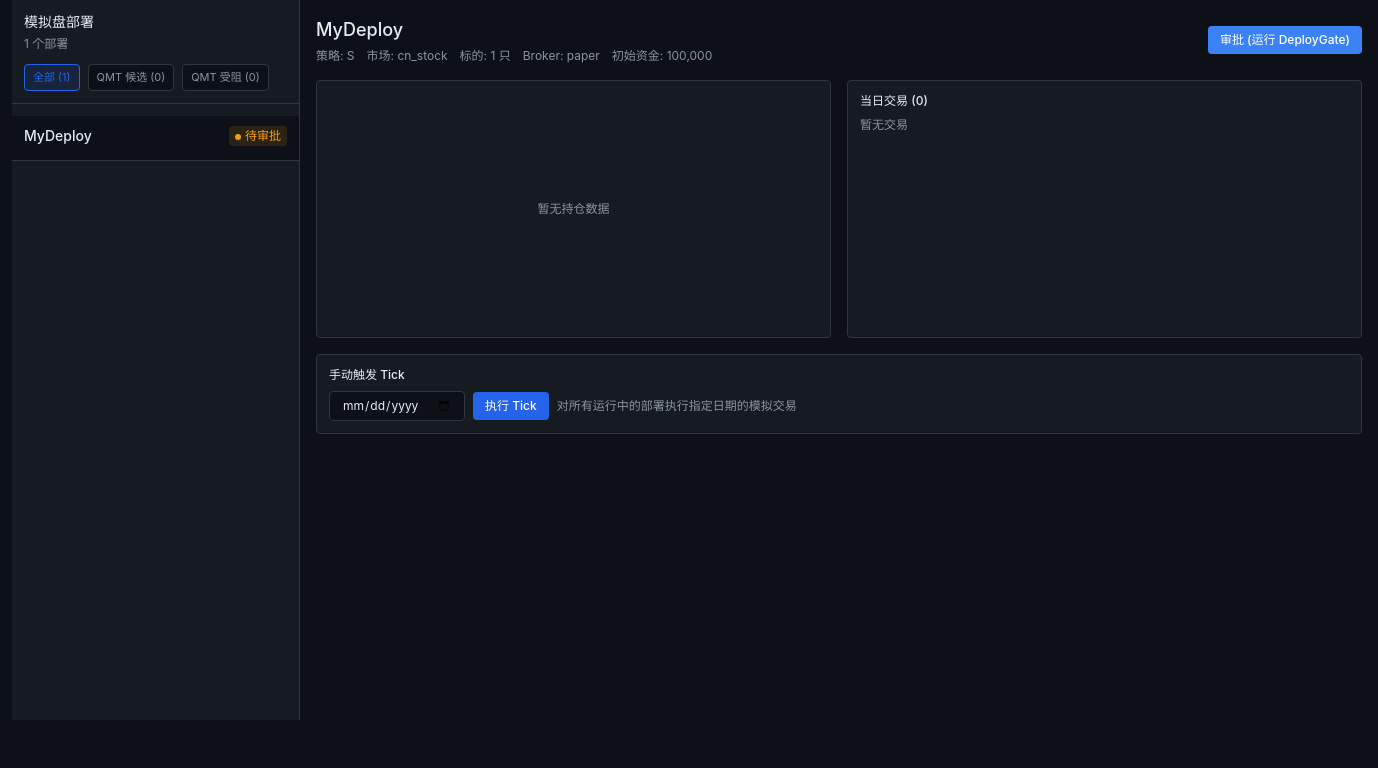
Test: PaperTradingPage - DeployGate 422 error object extraction (V2.17 regression) › extracts nested structured error messages instead of falling back to generic text
What coordinates should you click on to do the following:
click the button "审批 (运行 DeployGate)"
I would click on:
 (1285, 40)
Its box is [1208,26,1362,54].
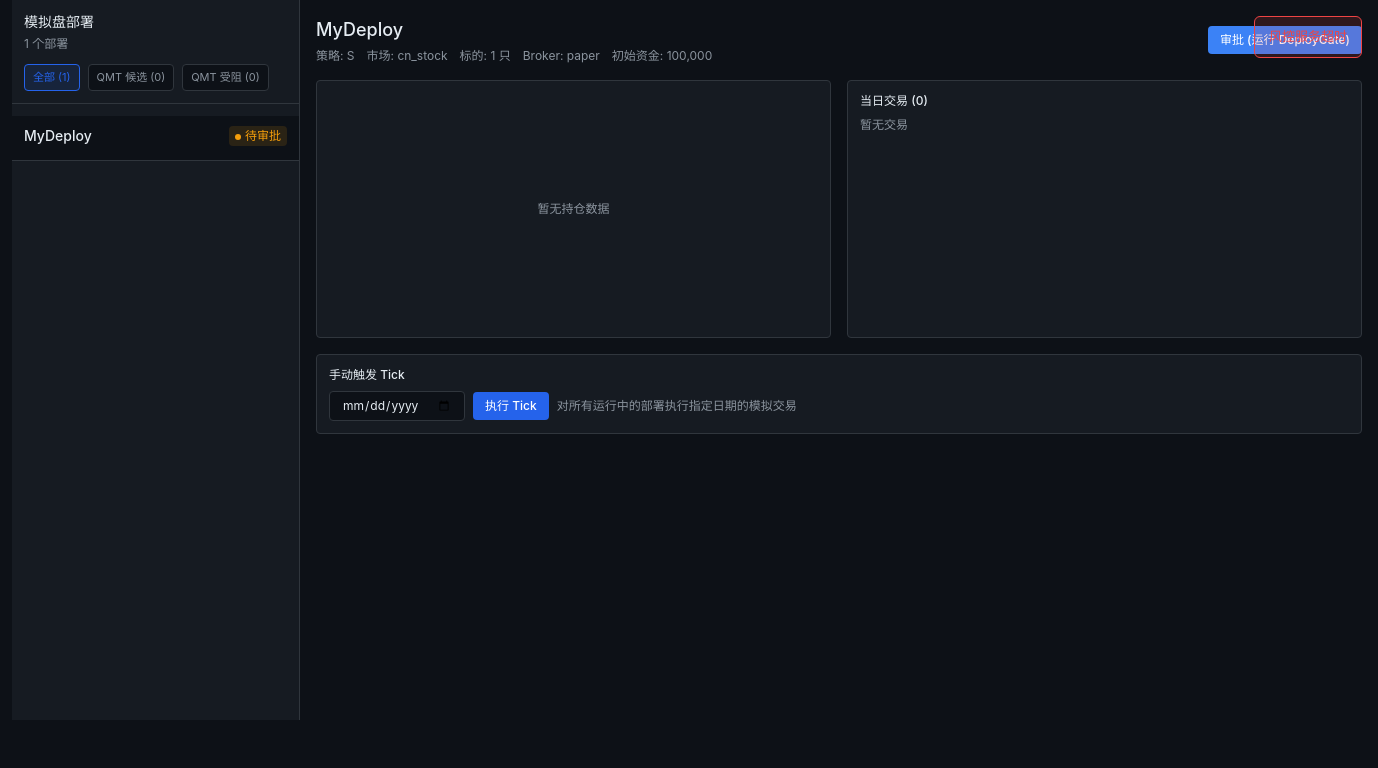
Check: the text "风控服务超时" is shown, box [1254,16,1362,58]
